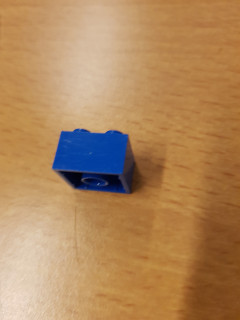2x2 blue: (50, 126, 139, 197)
